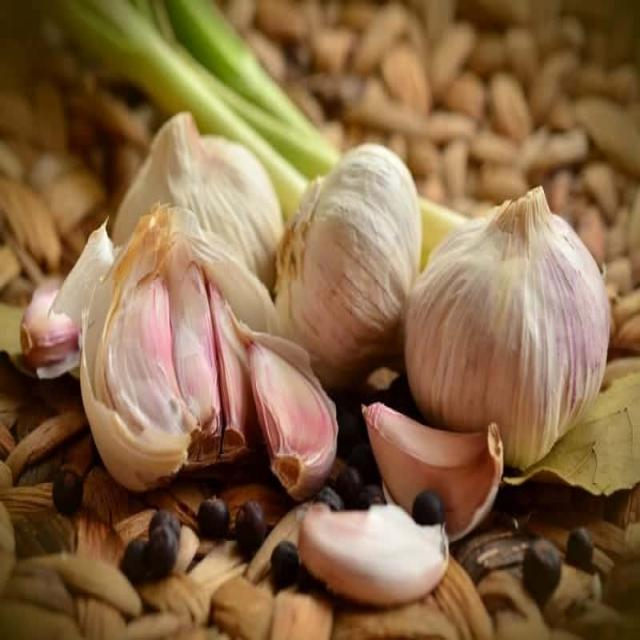garlic: (413, 192, 611, 435), (96, 262, 249, 466), (275, 142, 416, 352), (364, 396, 499, 526), (252, 342, 338, 492)
